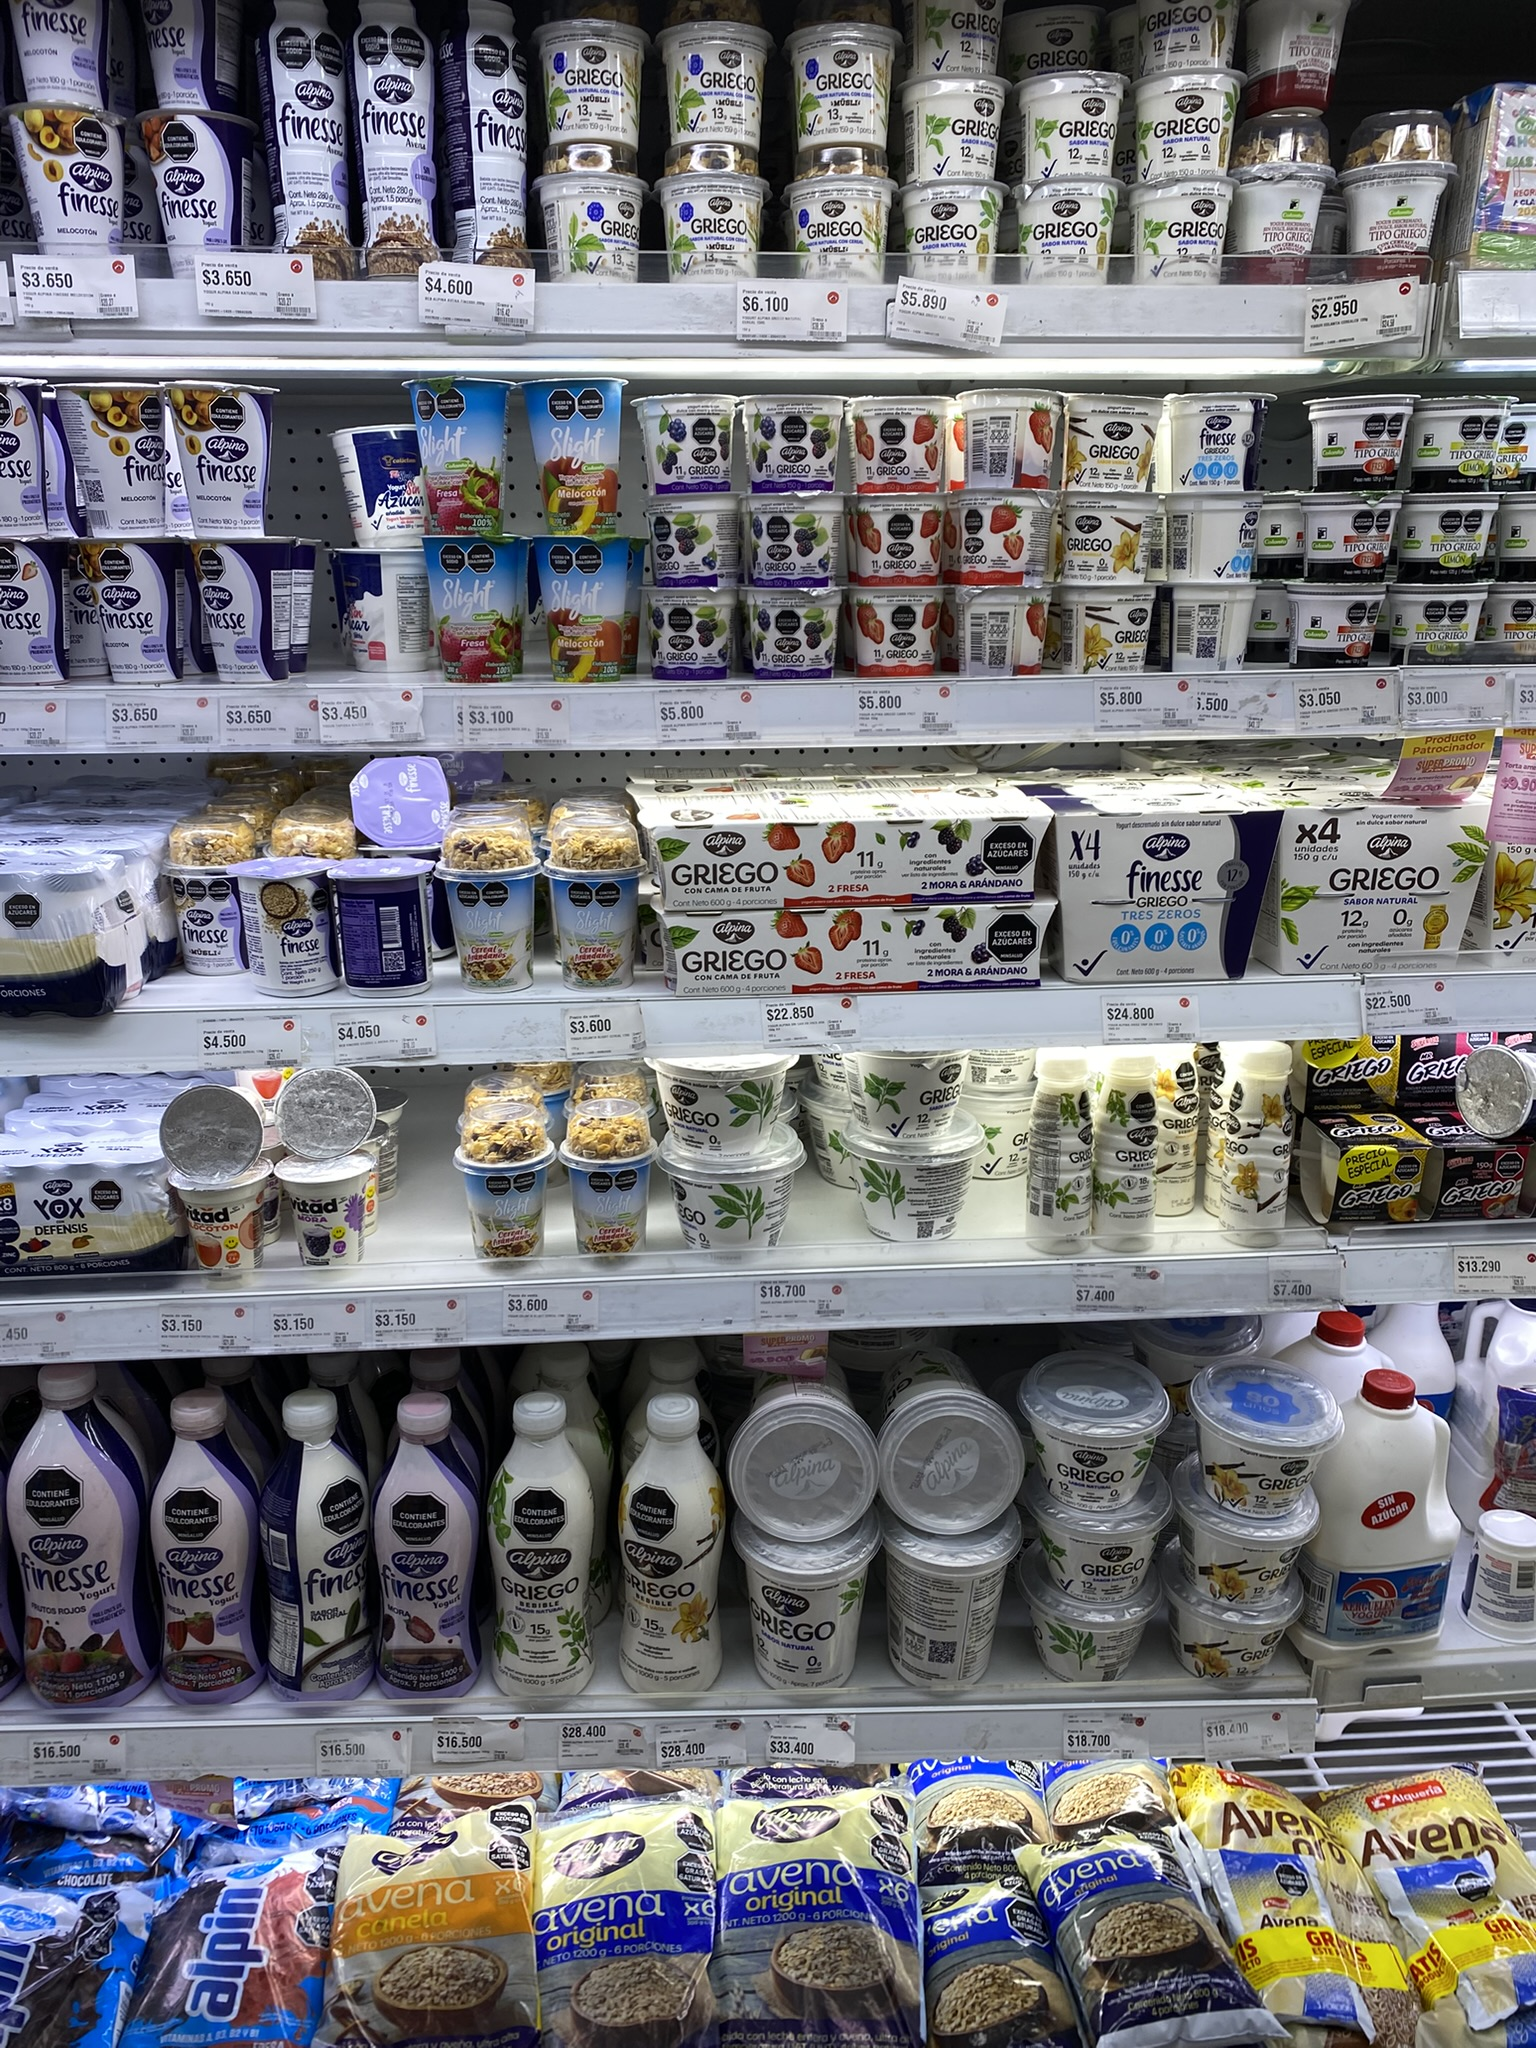Yogurt Griego: (883, 1509, 1039, 1698), (731, 1524, 871, 1703), (1018, 1367, 1163, 1505), (663, 1147, 803, 1264), (845, 1134, 983, 1248), (639, 1055, 805, 1147), (1036, 1584, 1173, 1688), (842, 1051, 991, 1142), (892, 181, 1004, 292), (1039, 1500, 1167, 1590), (1018, 77, 1126, 174), (899, 77, 1007, 173), (1131, 177, 1226, 285), (1129, 74, 1238, 168), (1020, 185, 1113, 273), (899, 0, 995, 74), (1131, 8, 1242, 69)
